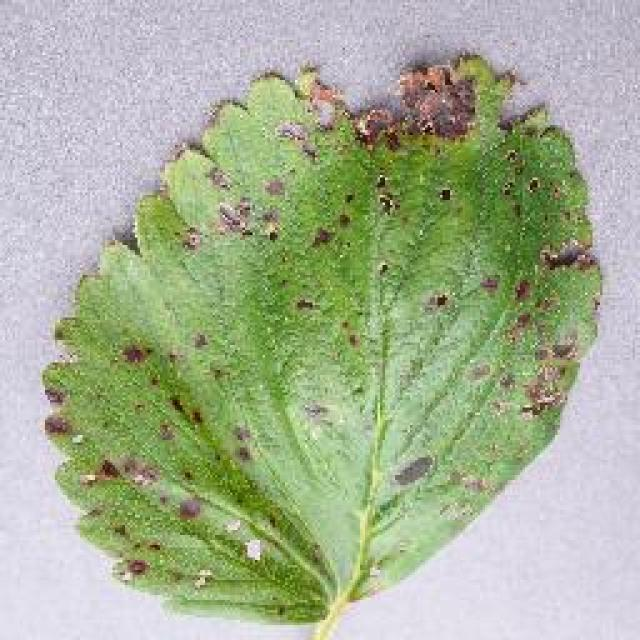Strawberry___Leaf_scorch: (28, 30, 618, 640)
